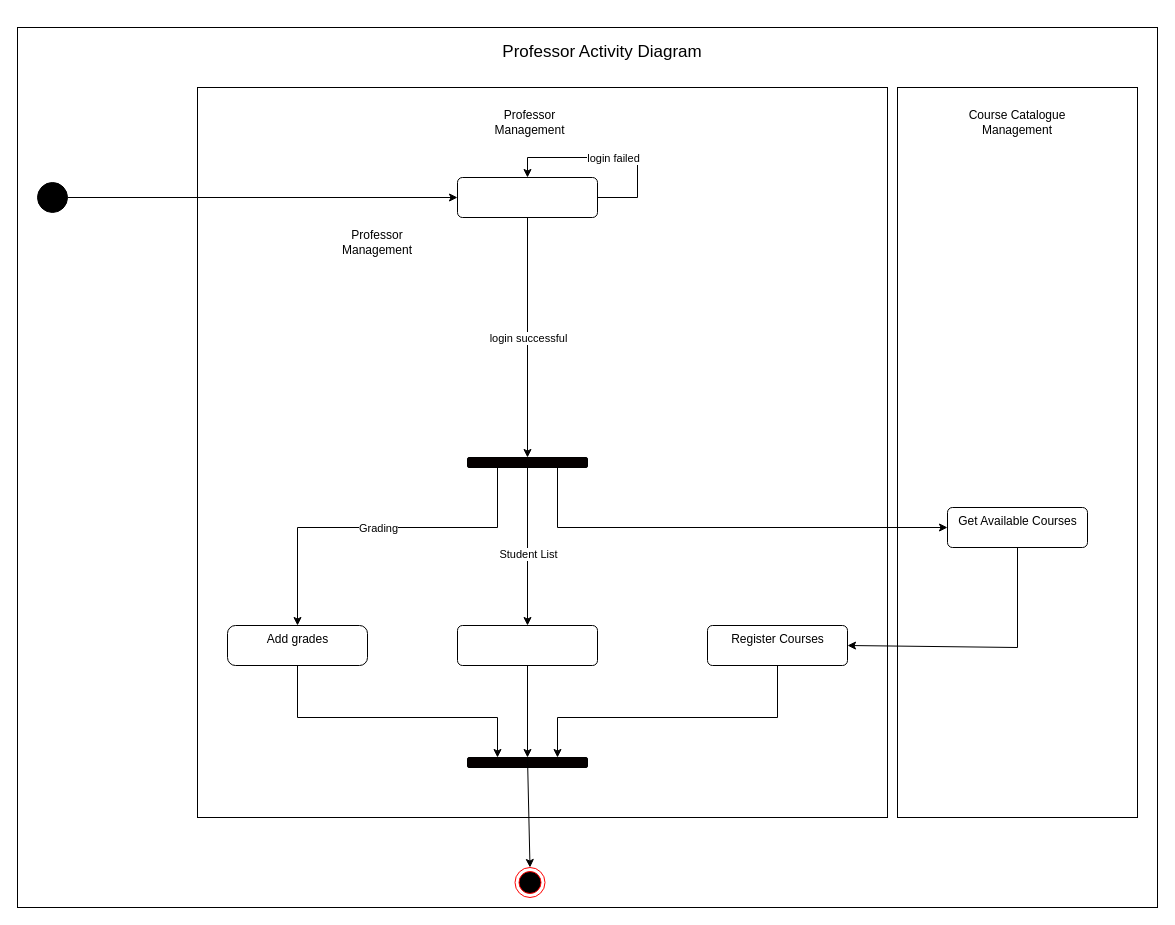
This 1175x925 diagram has some shape labels left out. The shapes that lost their labels are listed below. From the top down, each one's box as (x1, y1, x2, y2) in pixels, then its label:
(456, 176, 598, 218): Login
(456, 624, 598, 666): View Enrolled Student
